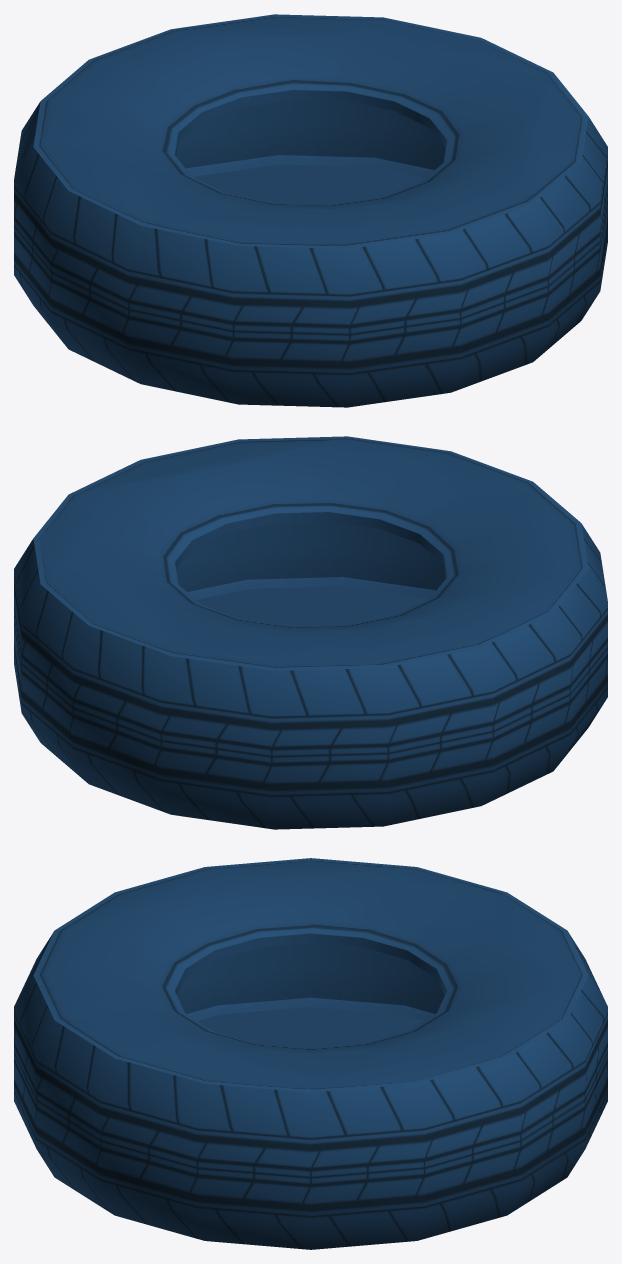
File: active.Tyre-01.glb
The picture shows the model from 3 angles, top to bottom: view 1: azimuth 30°, elevation 25°; view 2: azimuth 150°, elevation 25°; view 3: azimuth 270°, elevation 25°; orthographic projection.
Visible parts, largest first — view 1: active.Tyre 01; view 2: active.Tyre 01; view 3: active.Tyre 01.
Part boxes in pixels (left/top/right/bottom): active.Tyre 01: left=14, top=14, right=607, bottom=407; active.Tyre 01: left=14, top=436, right=607, bottom=829; active.Tyre 01: left=14, top=858, right=607, bottom=1249.
Size of the model in its own units: 1.14 by 0.3667 by 1.14.
Materials: 1 (1 with a texture image).
